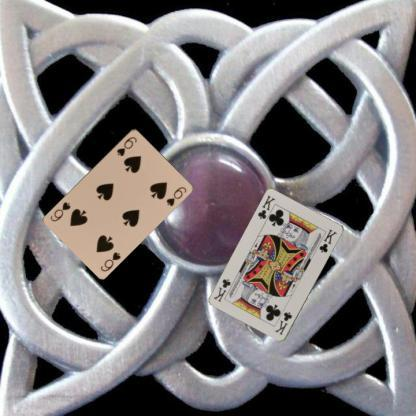6s: (98, 249, 122, 273), (114, 134, 138, 157)
Kc: (255, 193, 277, 221), (272, 310, 294, 336)
